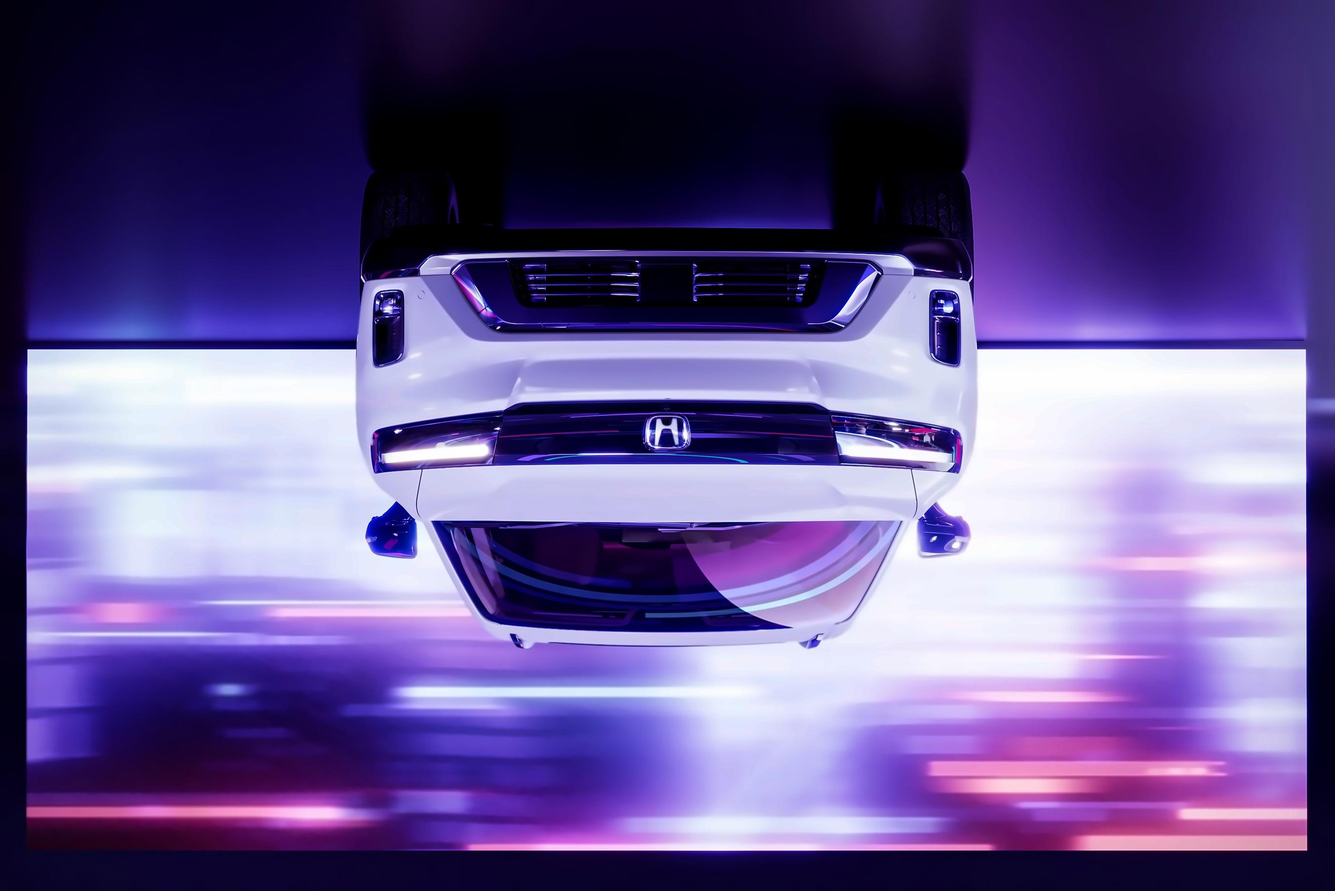Car hood: (368, 447, 969, 536)
Front bumper: (341, 226, 979, 443)
Headlight - -L-: (371, 407, 509, 474)
Headlight - -R-: (836, 416, 965, 478)
Side mirror - -L-: (365, 498, 419, 566)
Side mirror - -R-: (910, 498, 975, 569)
